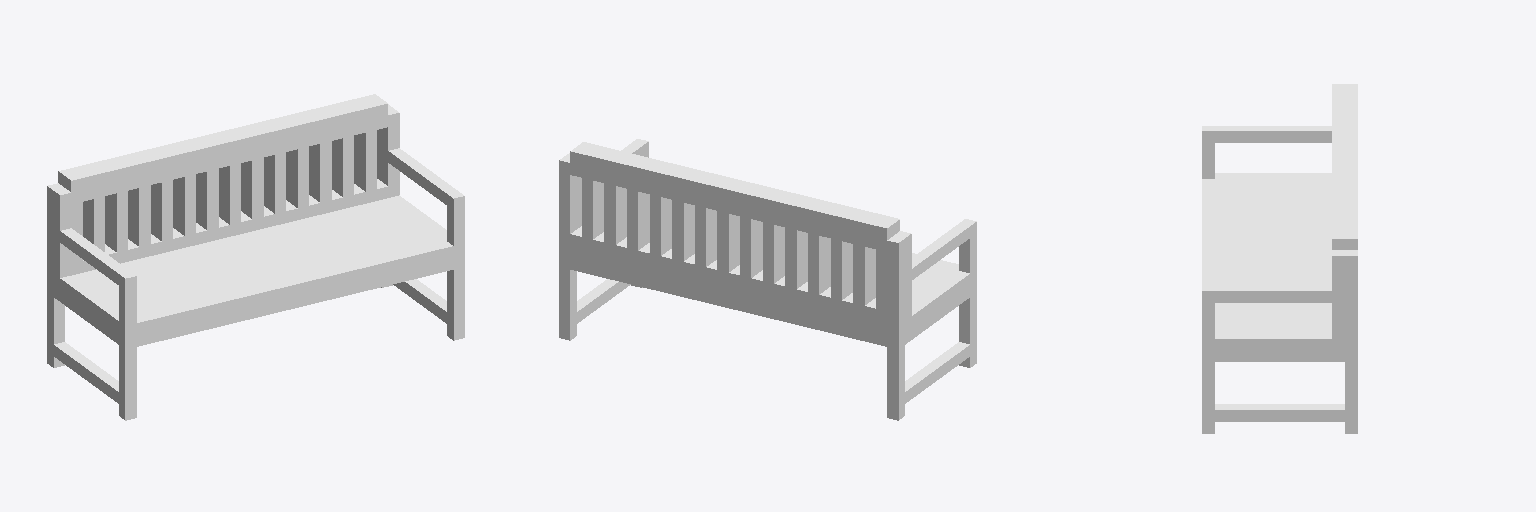
The model's file is bench.obj.
3 renders of one model, left to right at view 1: azimuth 30°, elevation 25°; view 2: azimuth 150°, elevation 25°; view 3: azimuth 270°, elevation 25°, orthographic.
Visible parts, largest first — view 1: object 1; view 2: object 1; view 3: object 1.
Boxes of the visible parts, x1,y1,x2,y2 form: object 1: [47, 94, 464, 420]; object 1: [559, 139, 976, 420]; object 1: [1202, 84, 1357, 433].
Bounding box in the file's own units: 3 × 1.6 × 1.2.